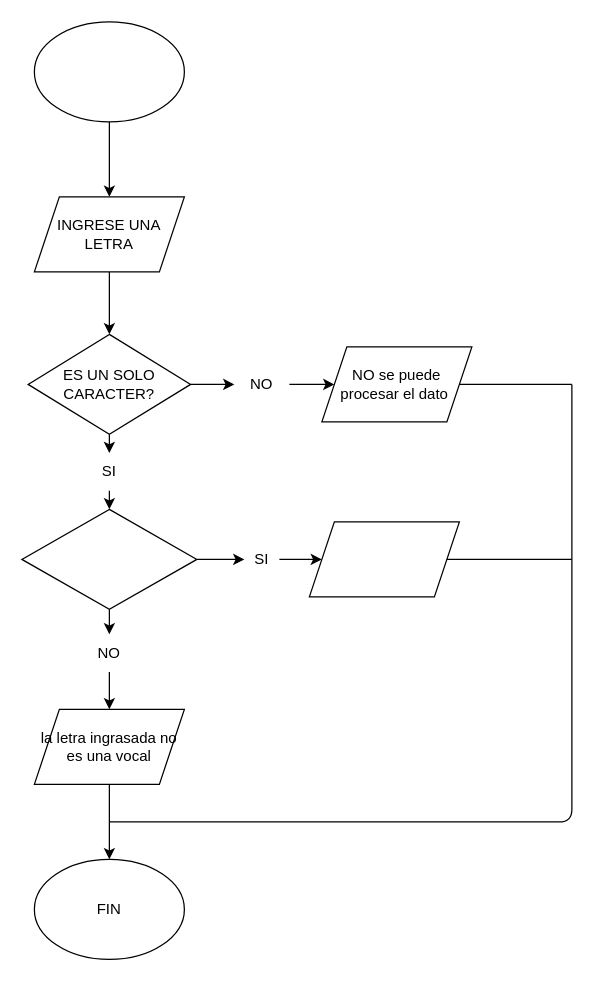
Image size: 595x981. Some labels were removed from this diagram. Each missing label, with the box of its shape:
INICIO: (33, 21, 184, 122)
la letra ingresada es una vocal: (308, 521, 459, 597)
letra=a,e,i,o,u: (21, 508, 197, 609)
